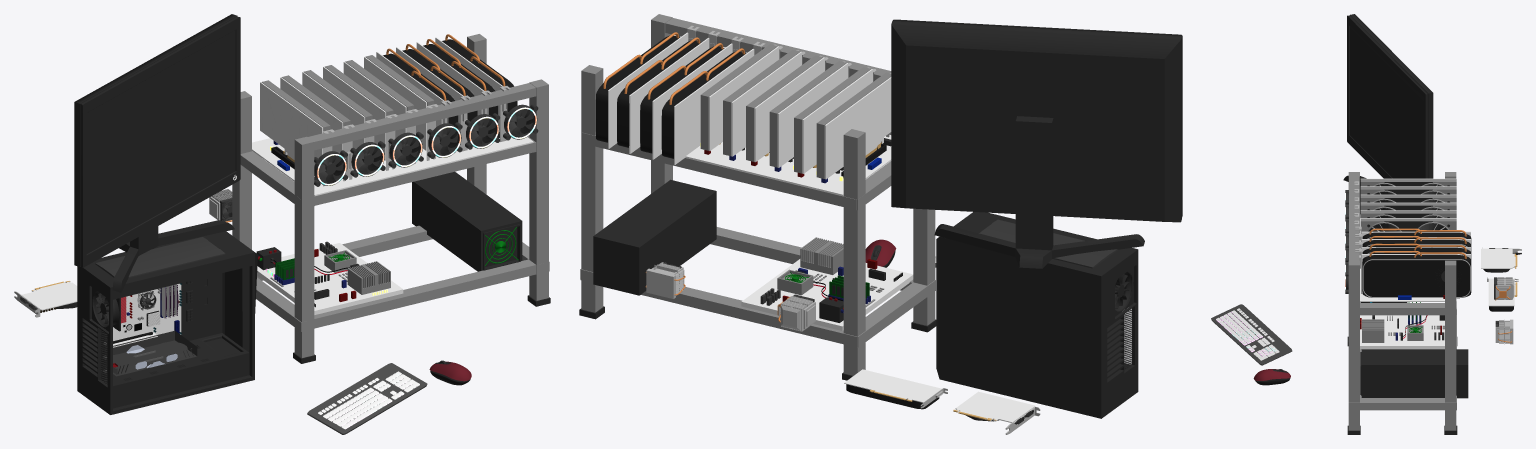
The model's file is GP 50 GPU.glb.
The picture shows the model from 3 angles, left to right: view 1: azimuth 30°, elevation 25°; view 2: azimuth 150°, elevation 25°; view 3: azimuth 270°, elevation 25°; orthographic projection. The views are drawn at different scales.
Visible parts, largest first — view 1: Cube.001, Cube.016, Cube.112, Cube.027, Cube.121, Cube.110, Circle.002, Circle.001, Cube.008, Cylinder.005, Cube.044, Cube.045 (+12 smaller); view 2: Cube.001, Cube.112, Cube.016, Cube.027, Cube.121, Cube.008, Cube.010, Cylinder.005, Cube.011, Cube.009, Cube.012, Cube.004 (+9 smaller); view 3: Cube.001, Cube.016, Cube.027, Cube.012, Cube.121, Cube.110, Cube.006, Cube.009, Cube.010, Cube.011, Cube.004, Cube.008 (+9 smaller).
Part boxes in pixels (x1,y1,x2,y2): Cube.001: (74, 14, 240, 292); Cube.016: (232, 34, 550, 363); Cube.112: (77, 231, 257, 414); Cube.027: (412, 171, 522, 271); Cube.121: (256, 241, 403, 314); Cube.110: (307, 363, 427, 434); Circle.002: (427, 104, 538, 158); Circle.001: (314, 131, 423, 186); Cube.008: (260, 80, 334, 186); Cylinder.005: (252, 132, 533, 196); Cube.044: (113, 283, 181, 343); Cube.045: (113, 330, 197, 376); Cube.001: (891, 19, 1182, 268); Cube.112: (936, 212, 1138, 418); Cube.016: (579, 14, 936, 380); Cube.027: (593, 179, 716, 295); Cube.121: (741, 237, 913, 330); Cube.008: (816, 72, 891, 179); Cube.010: (661, 41, 765, 164); Cylinder.005: (685, 135, 891, 195); Cube.011: (617, 31, 720, 153); Cube.009: (640, 36, 743, 159); Cube.012: (595, 25, 699, 148); Cube.004: (769, 61, 851, 167); Cube.001: (1343, 14, 1433, 186); Cube.016: (1347, 172, 1457, 434); Cube.027: (1360, 349, 1468, 398); Cube.012: (1355, 249, 1471, 298); Cube.121: (1360, 302, 1444, 349); Cube.110: (1211, 304, 1292, 365); Cube.006: (1354, 218, 1456, 232); Cube.009: (1355, 234, 1471, 252); Cube.010: (1355, 226, 1471, 244); Cube.011: (1355, 242, 1471, 259); Cube.004: (1354, 194, 1456, 226); Cube.008: (1354, 178, 1456, 210).
Bounding box in the file's own units: 6.52 × 4.27 × 4.8.
